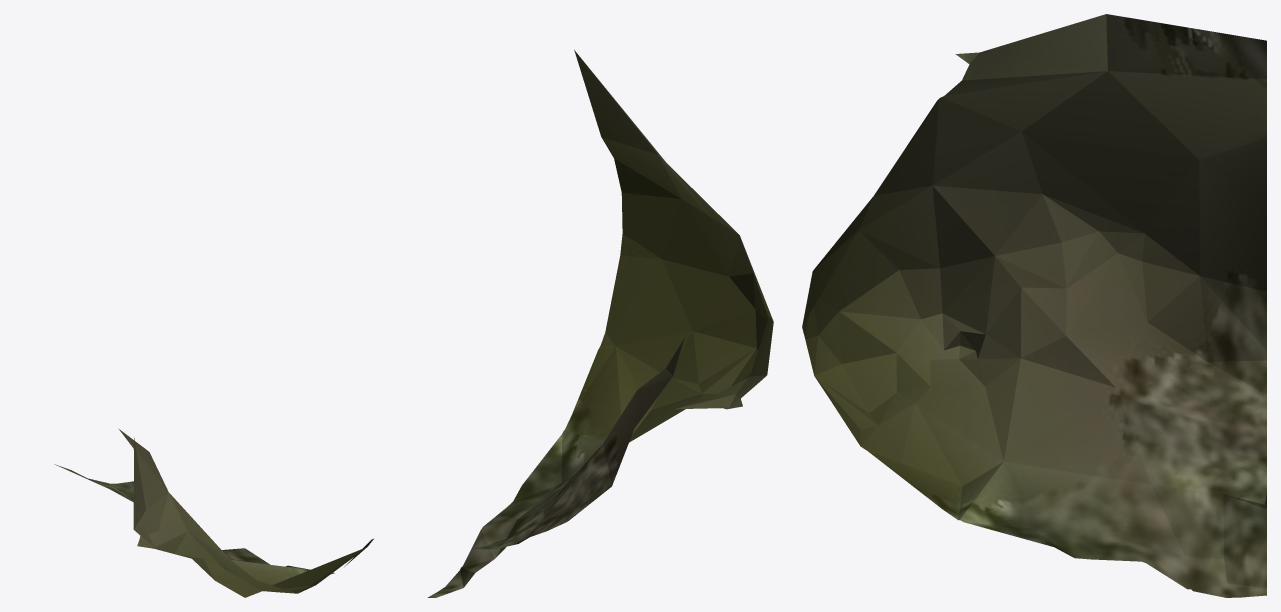
The picture shows the model from 3 angles, left to right: view 1: azimuth 30°, elevation 25°; view 2: azimuth 150°, elevation 25°; view 3: azimuth 270°, elevation 25°; orthographic projection. The views are drawn at different scales.
Size of the model in its own units: 0.9398 by 2.29 by 1.77.
2 materials, 2 textured.
